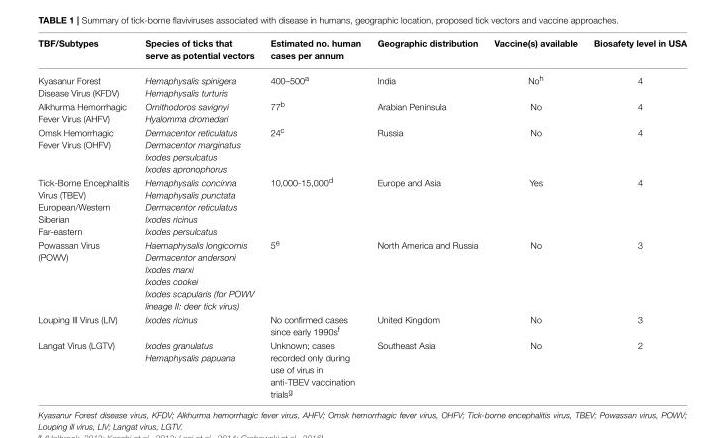table: (37, 37, 686, 398)
table column: (136, 37, 261, 398), (368, 37, 485, 398), (261, 37, 368, 398), (584, 37, 686, 398), (37, 37, 136, 398), (485, 37, 584, 398)
table column header: (37, 37, 686, 66)
table row: (37, 237, 686, 312), (37, 174, 686, 237), (37, 338, 686, 398), (37, 124, 686, 174), (37, 66, 686, 98), (37, 37, 686, 66), (37, 98, 686, 124), (37, 312, 686, 338)
